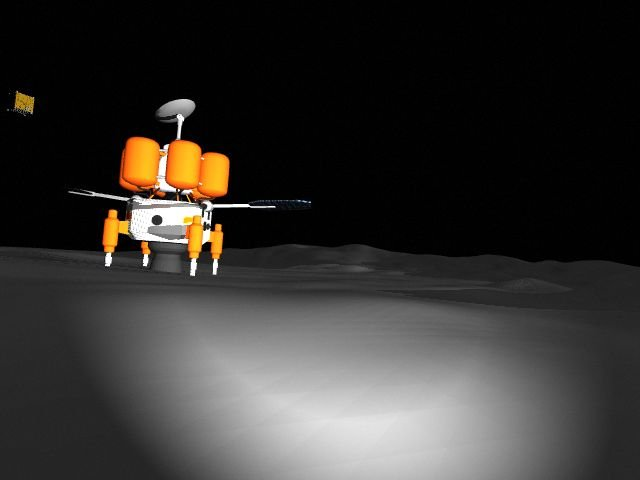cubesat: (3, 87, 38, 123)
